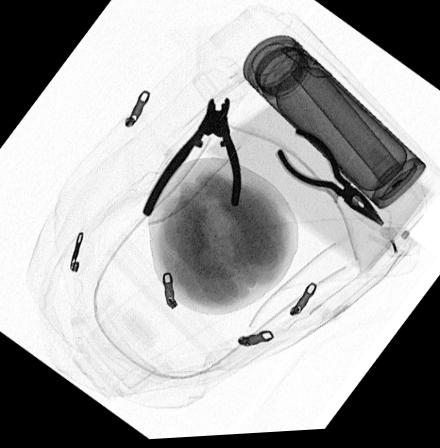Pliers: (140, 98, 241, 219), (273, 134, 385, 232)
